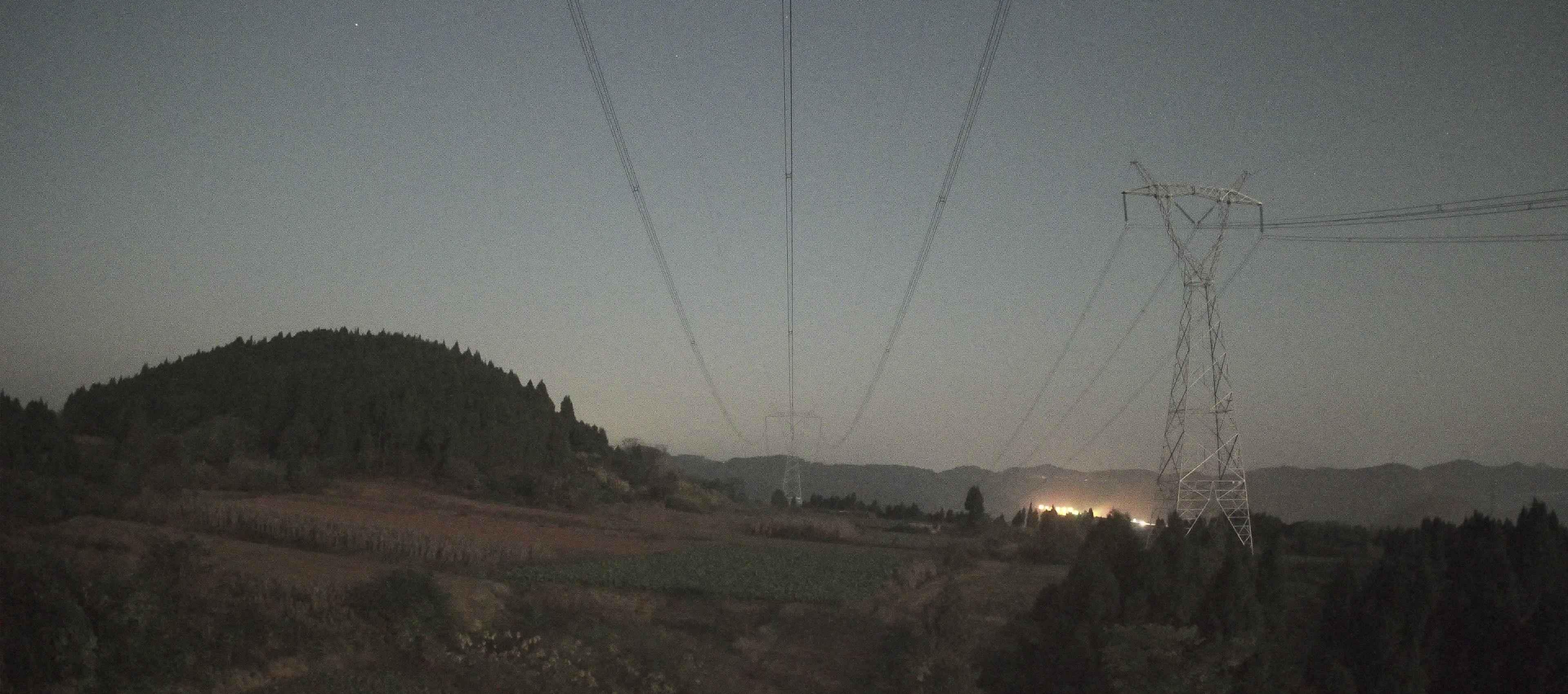山火: (1038, 504, 1082, 516), (1137, 521, 1155, 527), (1092, 509, 1101, 517), (1131, 518, 1137, 523)
烟雾: (1018, 476, 1164, 529)
